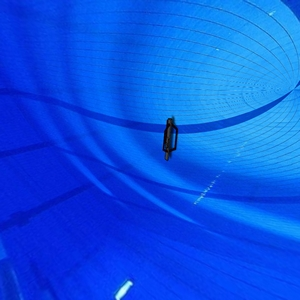submarine: (161, 113, 180, 159)
